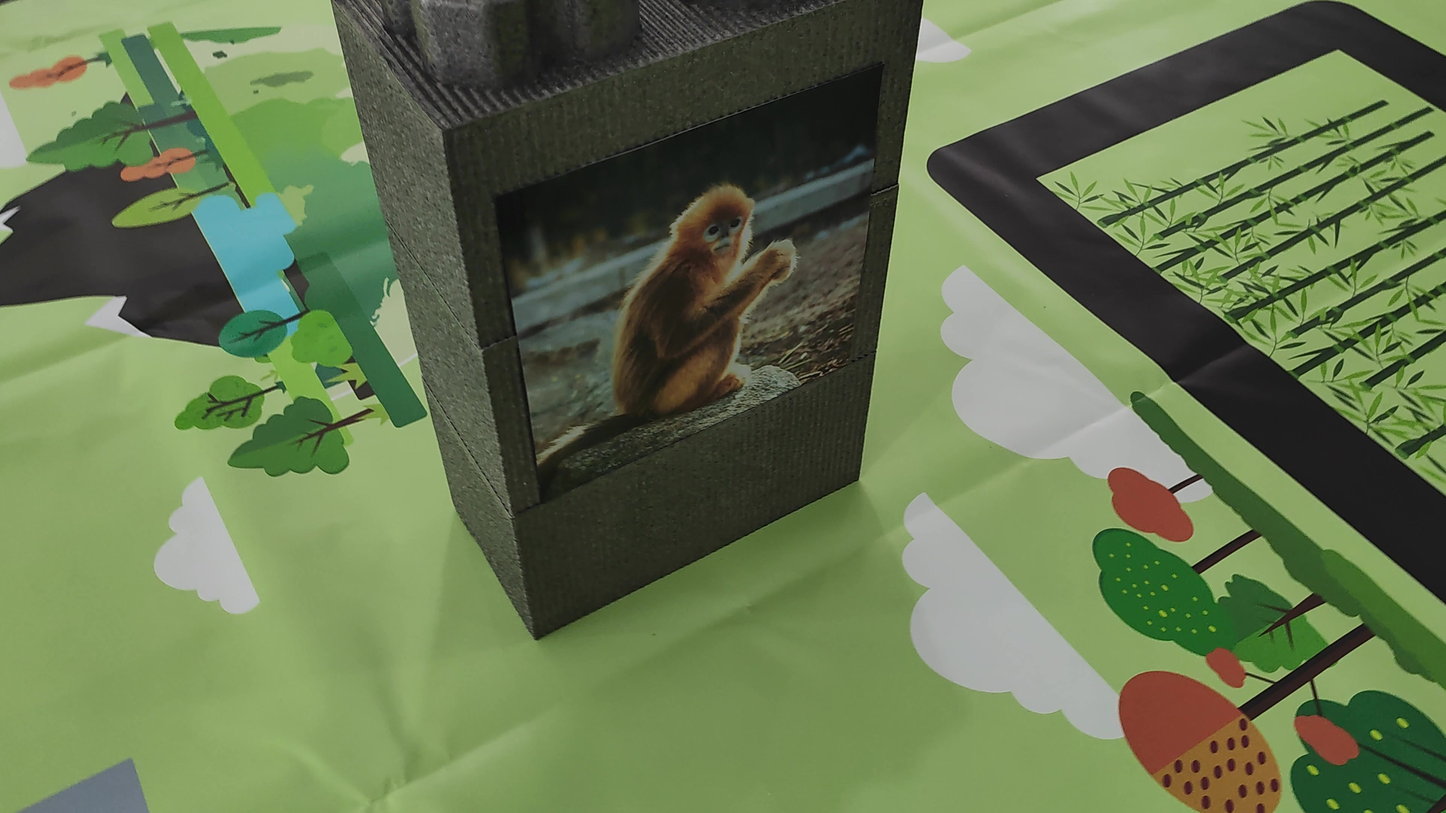monkey: (517, 175, 822, 488)
